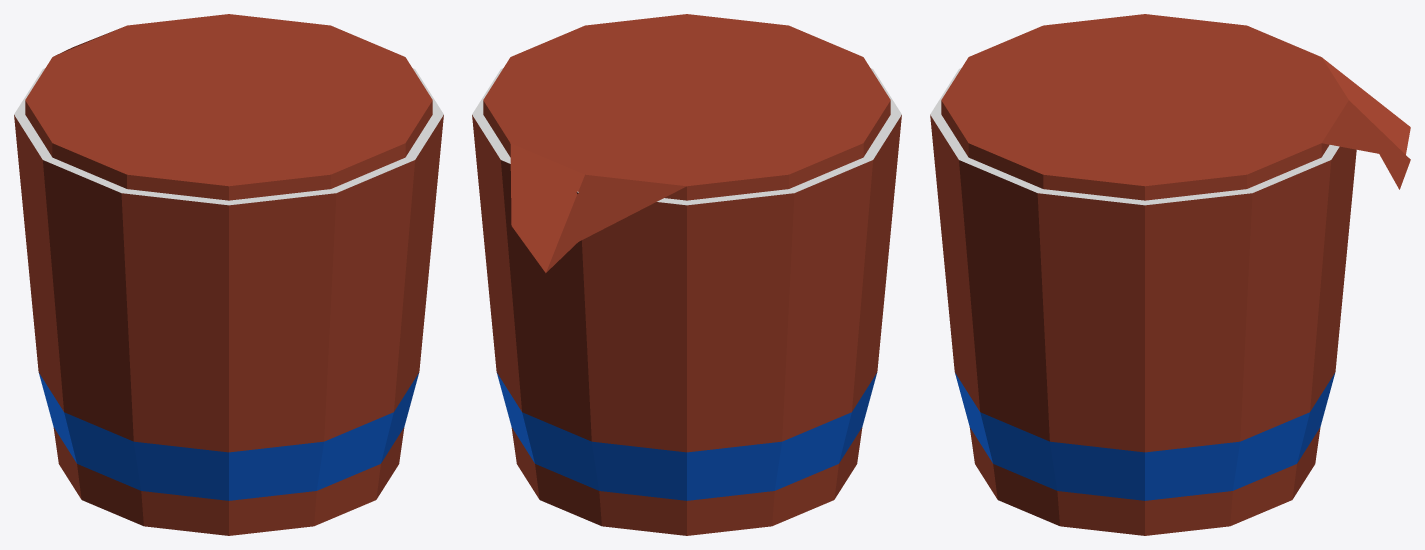
Rendered from noodles.glb.
The picture shows the model from 3 angles, left to right: view 1: azimuth 30°, elevation 25°; view 2: azimuth 150°, elevation 25°; view 3: azimuth 270°, elevation 25°; orthographic projection.
Parts seen in each view (by area): view 1: noodle; view 2: noodle; view 3: noodle.
Boxes of the visible parts, x1=… form: noodle: x1=14, y1=14, x2=443, y2=535; noodle: x1=472, y1=14, x2=901, y2=535; noodle: x1=930, y1=14, x2=1410, y2=535.
Bounding box in the file's own units: 0.5512 × 0.5148 × 0.6163.
